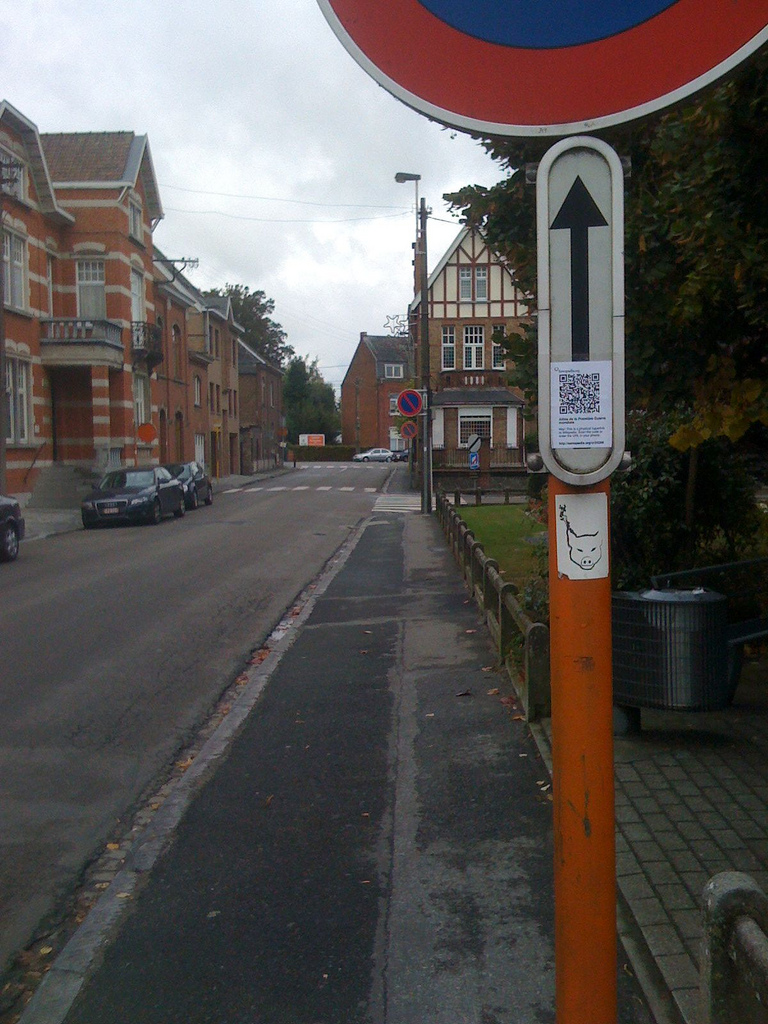QR-CODE: (559, 373, 599, 413)
